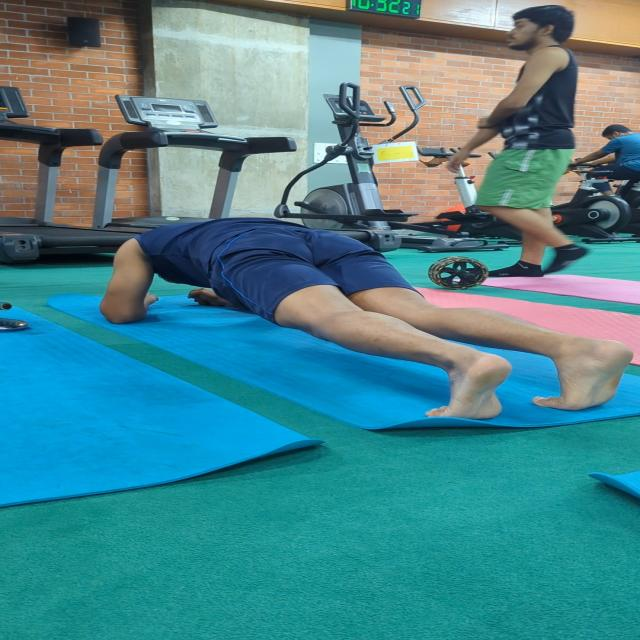Normal_Plunk: (87, 208, 640, 433)
